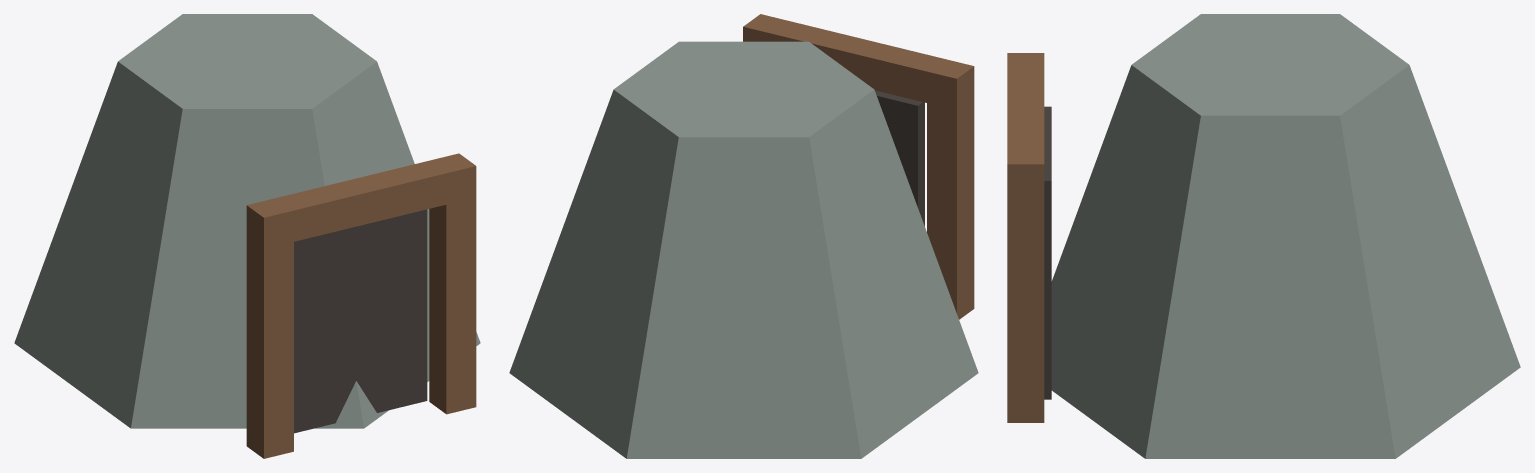
Rendered from bld_mine.glb.
3 renders of one model, left to right at view 1: azimuth 30°, elevation 25°; view 2: azimuth 150°, elevation 25°; view 3: azimuth 270°, elevation 25°, orthographic. The views are drawn at different scales.
Visible parts, largest first — view 1: bld_mine; view 2: bld_mine; view 3: bld_mine.
Boxes of the visible parts, box(x1,y1,x2,y2) form: bld_mine: box(14, 14, 480, 458); bld_mine: box(509, 14, 978, 458); bld_mine: box(1007, 14, 1520, 458).
Size of the model in its own units: 2.34 by 1.8 by 2.77.
1 material, 1 textured.
